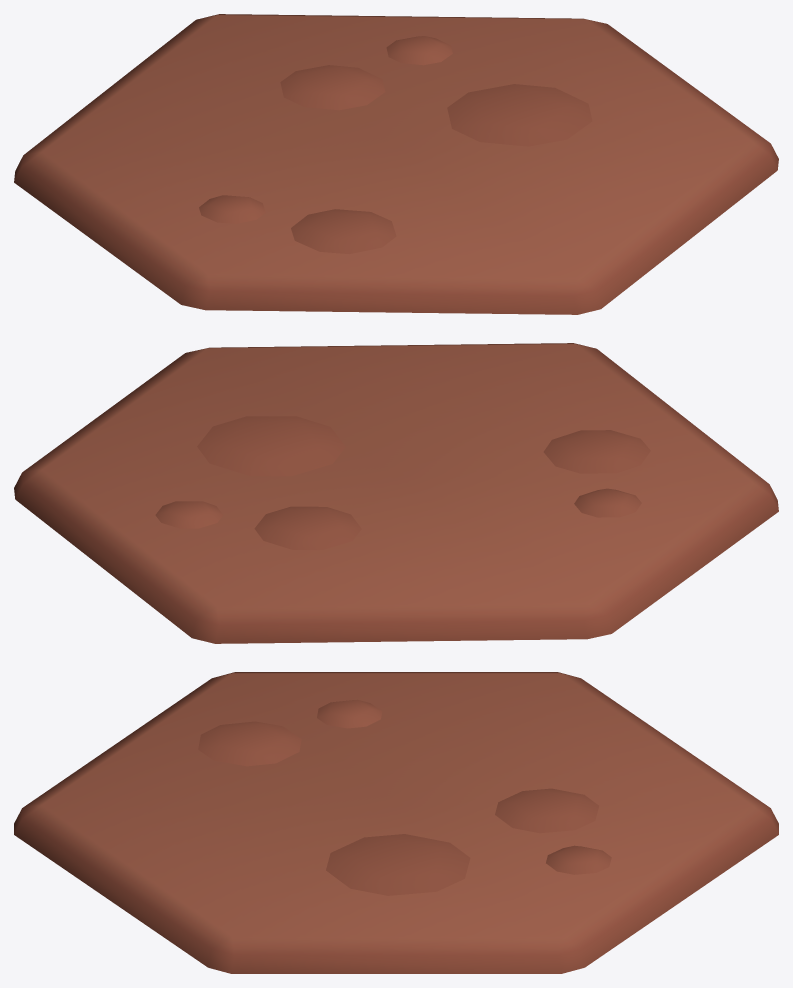
File: construction-lot.glb
The picture shows the model from 3 angles, top to bottom: view 1: azimuth 30°, elevation 25°; view 2: azimuth 150°, elevation 25°; view 3: azimuth 270°, elevation 25°; orthographic projection.
Visible parts, largest first — view 1: building_dirt; view 2: building_dirt; view 3: building_dirt.
Part boxes in pixels (x1,y1,x2,y2): building_dirt: [14, 14, 778, 314]; building_dirt: [14, 343, 778, 643]; building_dirt: [14, 672, 778, 973].
Size of the model in its own units: 1.79 by 0.0865 by 2.01.
Materials: 1 (1 with a texture image).
